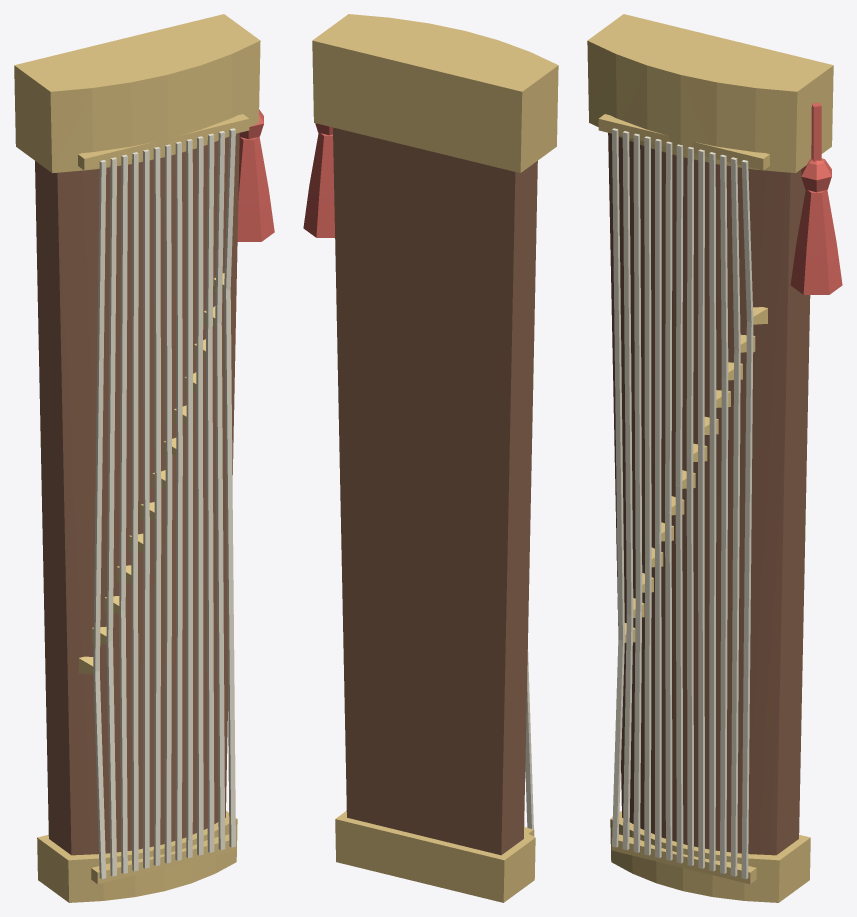
The model's file is Zither.fbx.
3 renders of one model, left to right at view 1: azimuth 30°, elevation 25°; view 2: azimuth 150°, elevation 25°; view 3: azimuth 330°, elevation 25°, orthographic.
Parts seen in each view (by area): view 1: ZitherBody, ZitherStrings, ZitherFittings, ZitherTassel; view 2: ZitherBody, ZitherFittings, ZitherTassel, ZitherStrings; view 3: ZitherBody, ZitherStrings, ZitherFittings, ZitherTassel.
Part boxes in pixels (<box>): ZitherBody: <box>35,133,239,855</box>; ZitherStrings: <box>93,128,235,879</box>; ZitherFittings: <box>14,14,260,902</box>; ZitherTassel: <box>237,109,274,241</box>; ZitherBody: <box>333,127,537,855</box>; ZitherFittings: <box>312,14,558,902</box>; ZitherTassel: <box>303,123,334,237</box>; ZitherStrings: <box>525,649,533,829</box>; ZitherBody: <box>608,133,810,855</box>; ZitherStrings: <box>612,128,753,879</box>; ZitherFittings: <box>587,14,833,902</box>; ZitherTassel: <box>790,102,842,294</box>.
Size of the model in its own units: 1.25 by 4.2 by 0.472.
